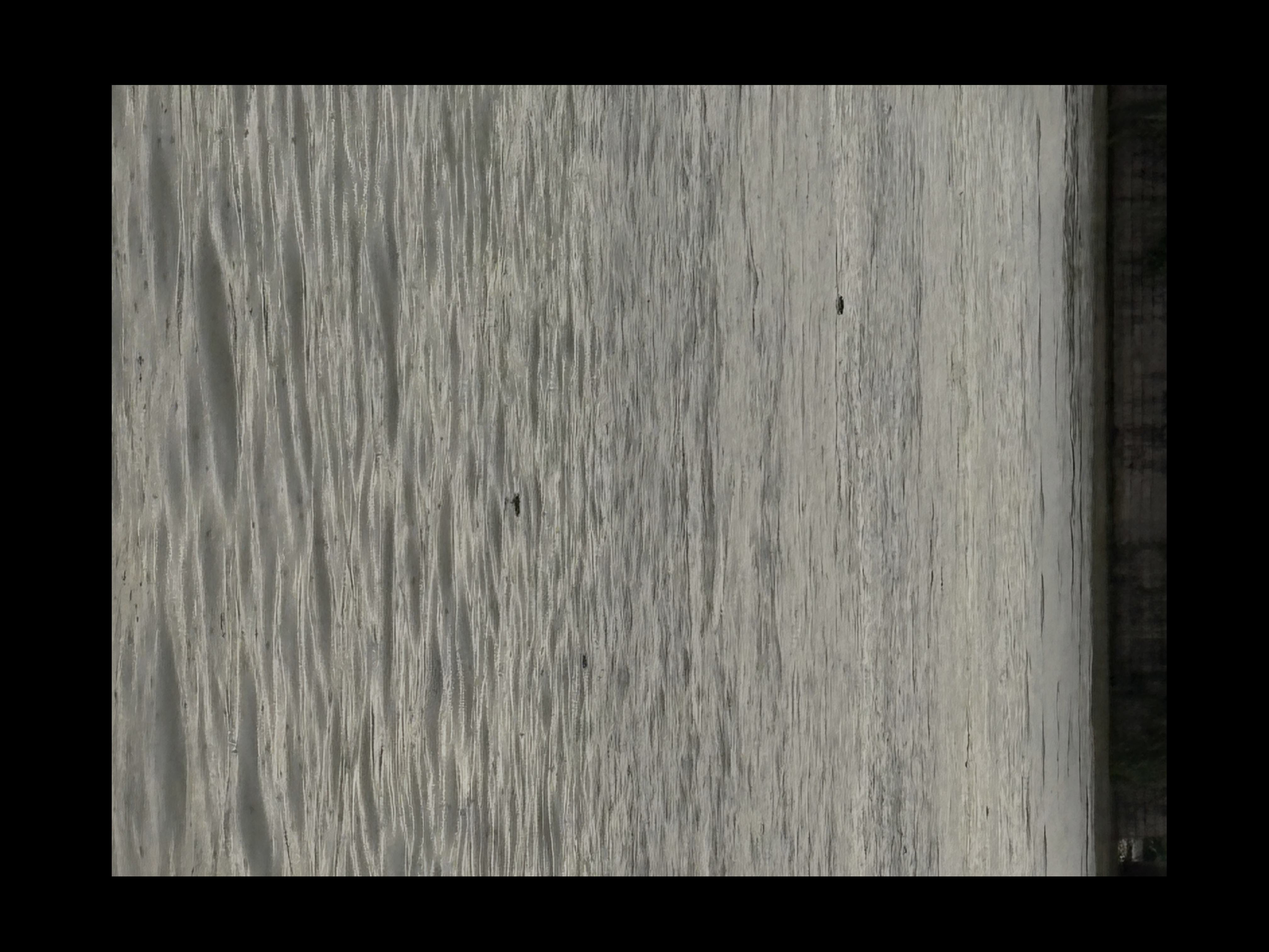Natural wastes: (898, 472, 912, 496), (1222, 274, 1237, 294), (966, 634, 983, 650)
